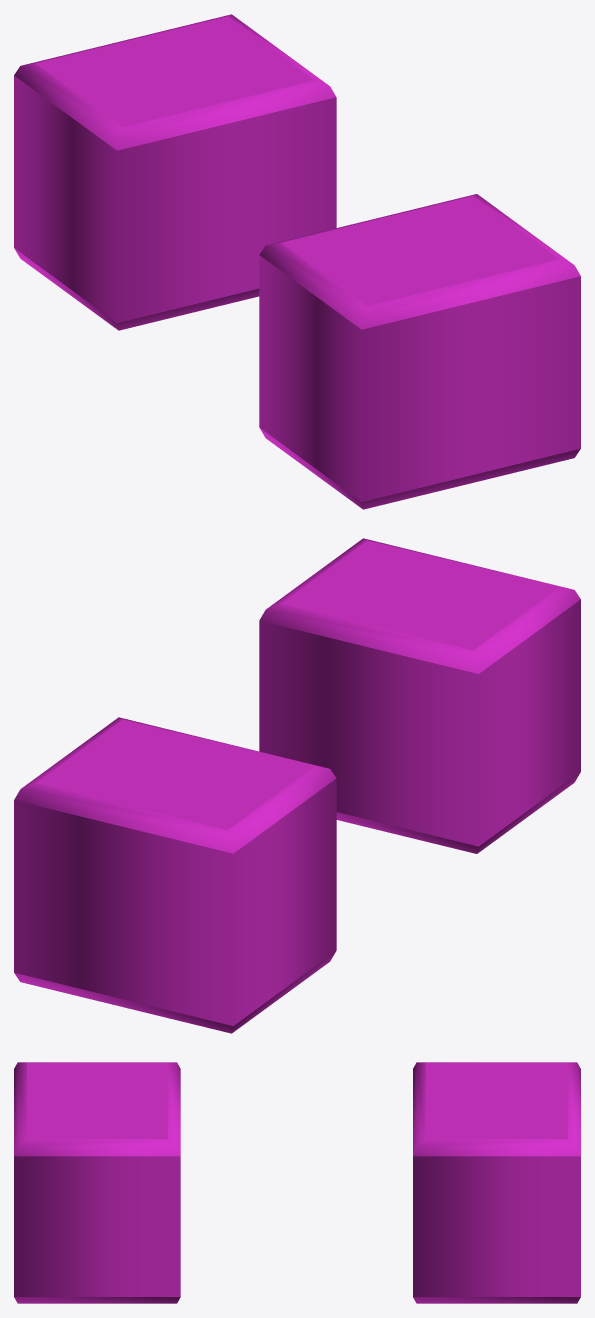
The model's file is Colon.fbx.
The picture shows the model from 3 angles, top to bottom: view 1: azimuth 30°, elevation 25°; view 2: azimuth 150°, elevation 25°; view 3: azimuth 270°, elevation 25°; orthographic projection. The views are drawn at different scales.
Visible parts, largest first — view 1: Colon; view 2: Colon; view 3: Colon.
Part boxes in pixels (left/top/right/bottom): Colon: left=14, top=14, right=580, bottom=509; Colon: left=14, top=538, right=580, bottom=1033; Colon: left=14, top=1062, right=580, bottom=1303.
Size of the model in its own units: 0.1598 by 0.14 by 0.4383.
